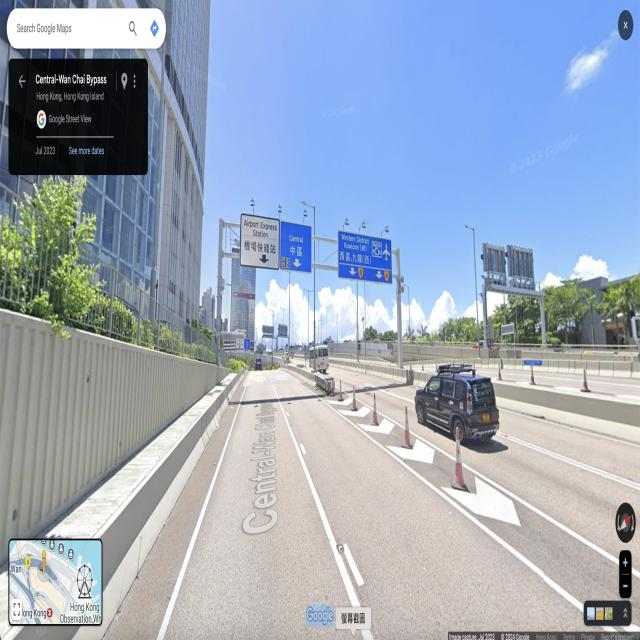Direction-Sign: (338, 230, 392, 283), (241, 214, 279, 268), (280, 221, 312, 273), (244, 339, 250, 349)
